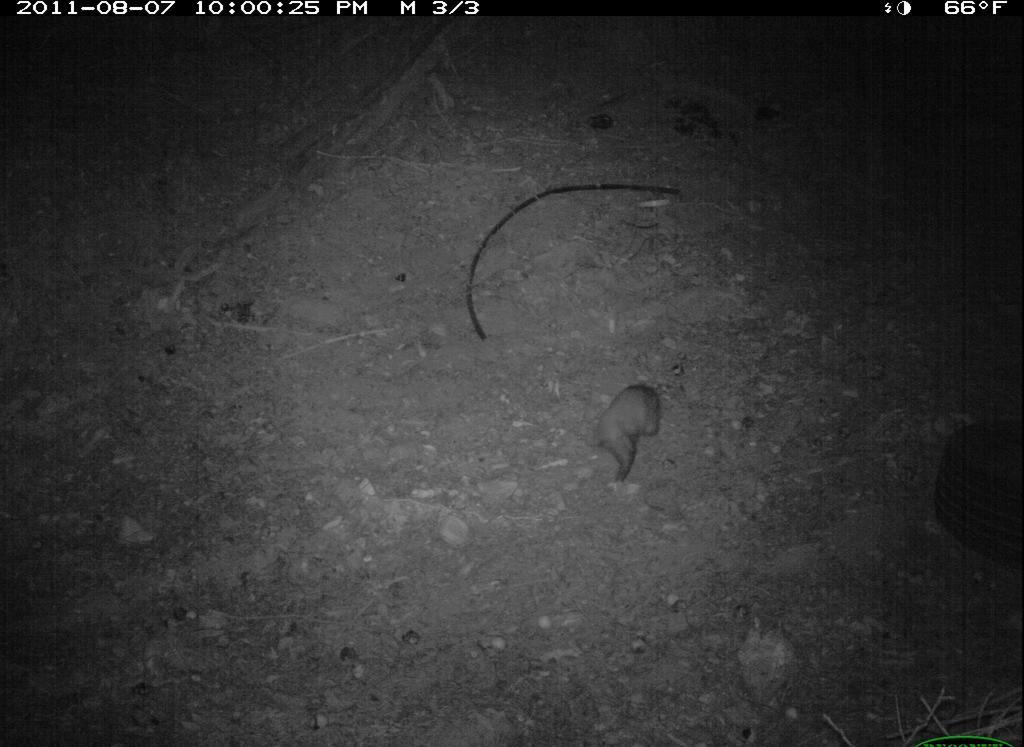opossum: (583, 367, 681, 487)
